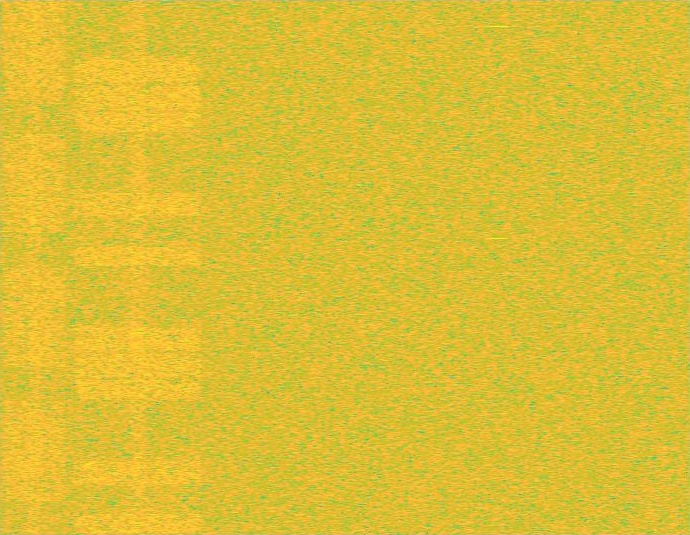5G: (0, 0, 69, 534)
DSSS: (129, 0, 147, 534), (27, 0, 42, 534)
LTE: (69, 0, 207, 534)
Radar: (491, 0, 505, 534)
